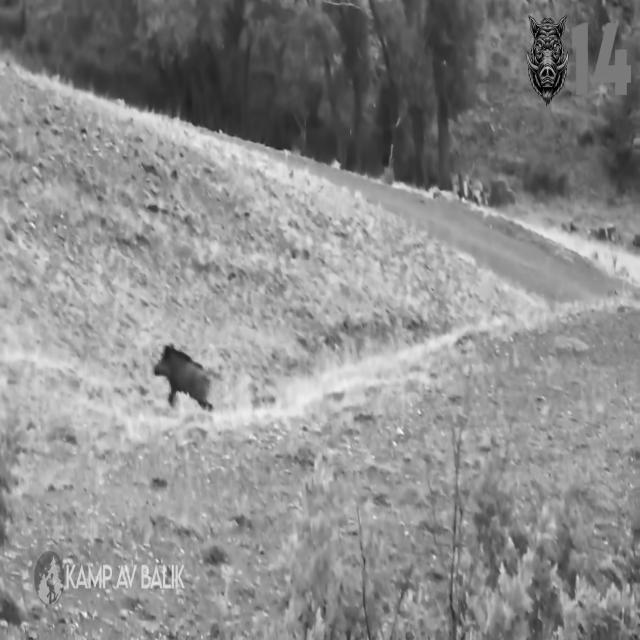boar: (154, 344, 212, 409), (528, 13, 569, 103)
